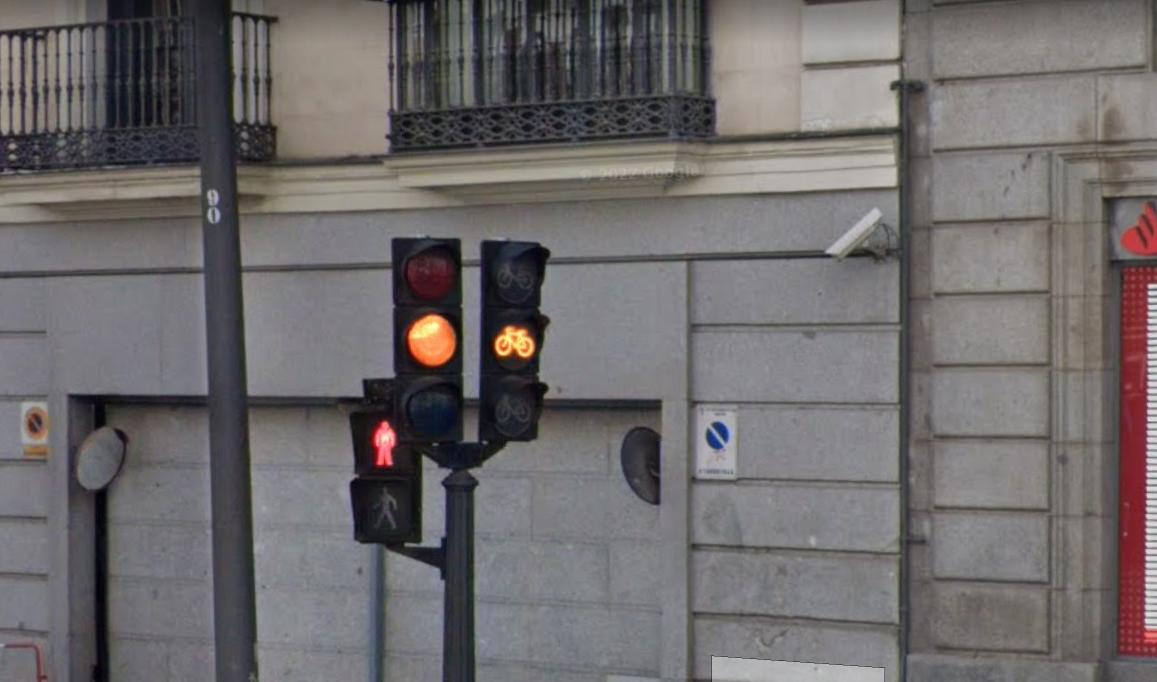yellow_light: (393, 236, 466, 443)
